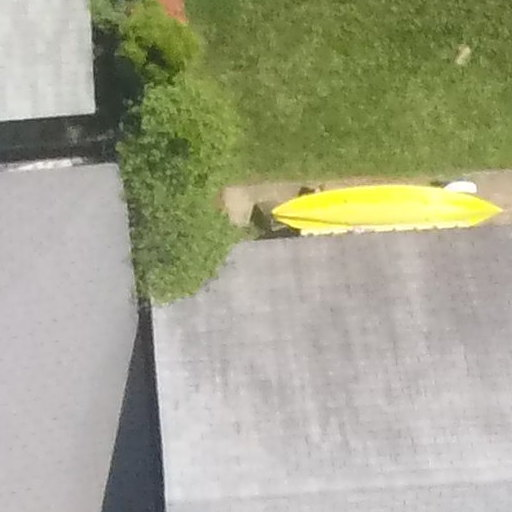kayak: (269, 180, 510, 238)
toy: (265, 181, 512, 236)
